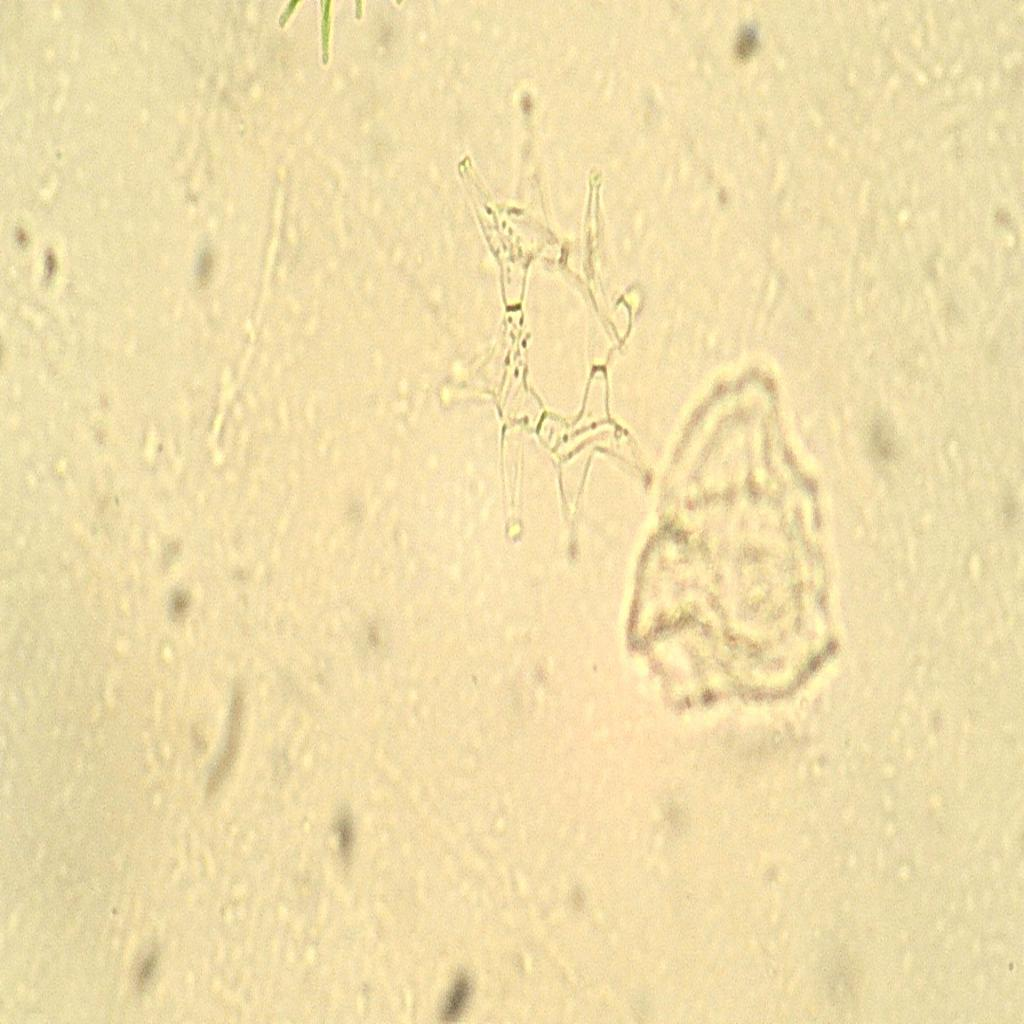Pediastrum_75TH: (397, 77, 670, 592)
